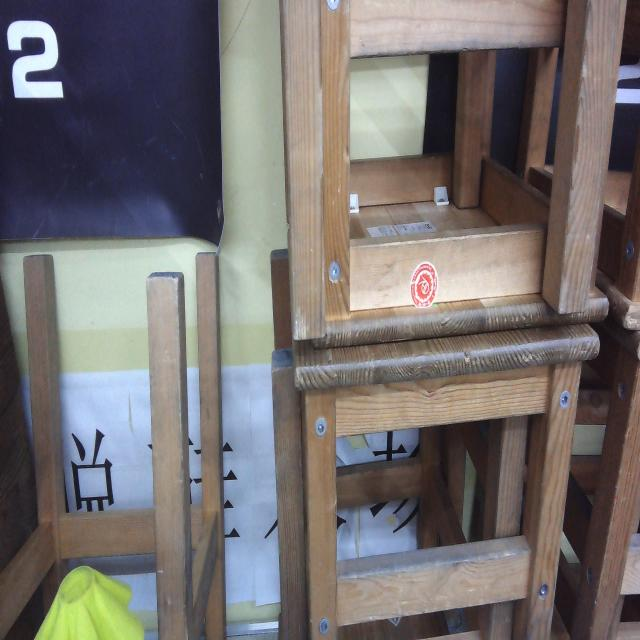Yellow-Stake-Head: (35, 566, 145, 640)
